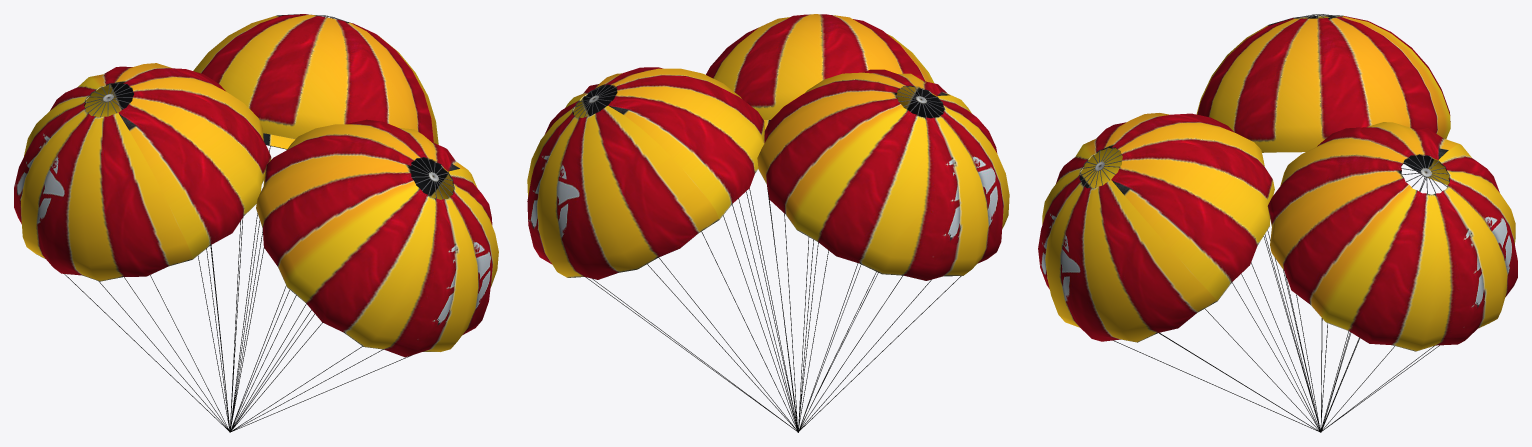
The model's file is Parachute-3.FBX.
3 renders of one model, left to right at view 1: azimuth 30°, elevation 25°; view 2: azimuth 150°, elevation 25°; view 3: azimuth 270°, elevation 25°, orthographic.
Visible parts, largest first — view 1: Parachute-3; view 2: Parachute-3; view 3: Parachute-3.
Part boxes in pixels (left/top/right/bottom): Parachute-3: left=14, top=14, right=498, bottom=432; Parachute-3: left=527, top=14, right=1009, bottom=432; Parachute-3: left=1038, top=14, right=1517, bottom=432.
Bounding box in the file's own units: 78.68 × 67.25 × 79.25.
1 material, 1 textured.
